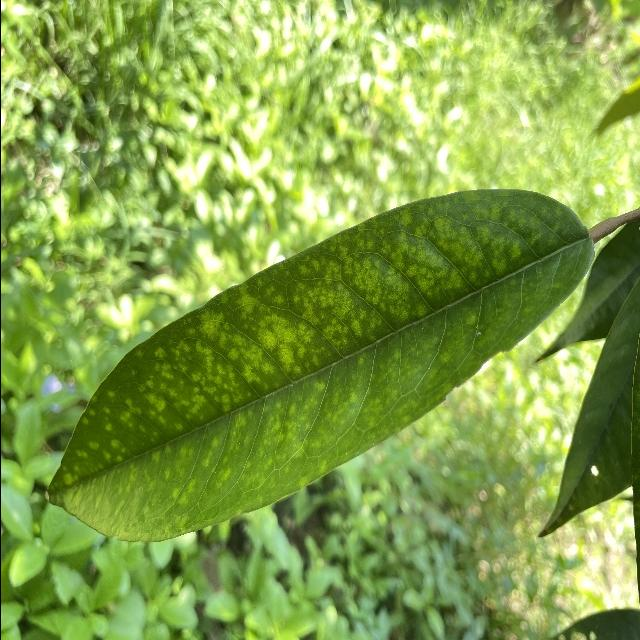Leaf Spot: (52, 183, 595, 545)
